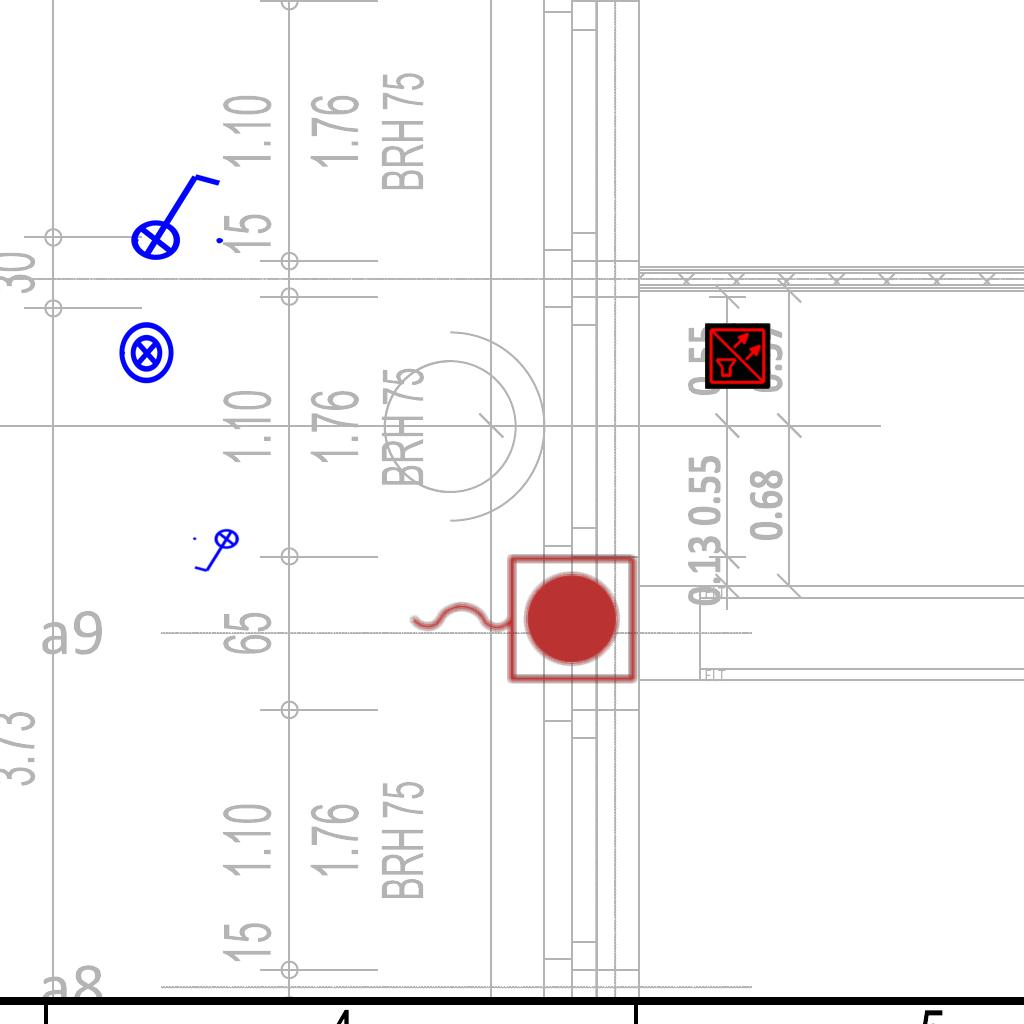Ausschalter_beleuchtet: (117, 166, 229, 262), (190, 528, 246, 576)
OKW_Multisensormelder_(Kombination_optischer_Rauch-Kahlenmonoxid_Waerme-Melder): (705, 323, 771, 389)
Taster_beleuchtet: (114, 320, 180, 386)
Zugtaster: (400, 545, 644, 689)
